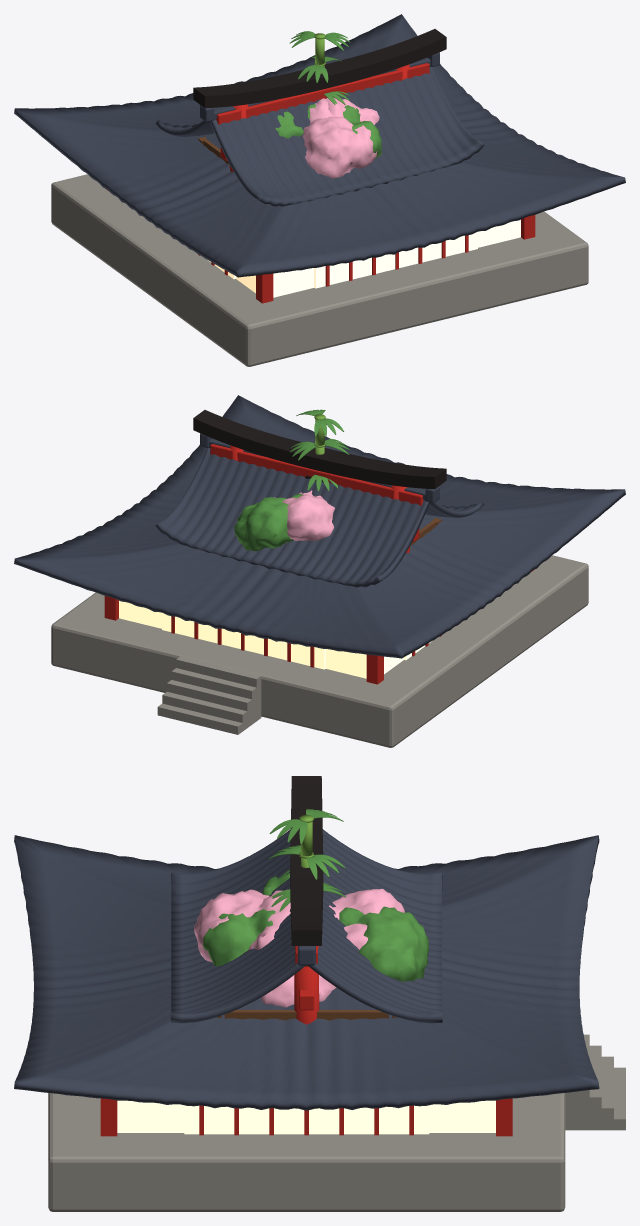
File: NinjaSim_Props.fbx
3 renders of one model, top to bottom at view 1: azimuth 30°, elevation 25°; view 2: azimuth 150°, elevation 25°; view 3: azimuth 270°, elevation 25°, orthographic. The views are drawn at different scales.
Parts seen in each view (by area): view 1: PagodaTier__Roof, PagodaBase__Stone, House__Roof, Torii__Black, PagodaTier__Walls, TreeSakura2__Leaves, Torii__Red, PagodaTier__Trim, TreeLeafy4__Leaves, Bamboo__Leaves; view 2: PagodaTier__Roof, PagodaBase__Stone, House__Roof, Torii__Black, PagodaTier__Walls, TreeLeafy4__Leaves, Torii__Red, TreeSakura2__Leaves, PagodaTier__Trim, Bamboo__Leaves; view 3: PagodaTier__Roof, PagodaBase__Stone, House__Roof, PagodaTier__Walls, TreeLeafy4__Leaves, Torii__Black, TreeSakura2__Leaves, PagodaTier__Trim, Bamboo__Leaves, TreeSakura1__Leaves, Torii__Red, House__Wood.
Part boxes in pixels (<box>): PagodaTier__Roof: <box>14,14,625,277</box>; PagodaBase__Stone: <box>51,174,588,366</box>; House__Roof: <box>155,52,484,206</box>; Torii__Black: <box>193,29,446,108</box>; PagodaTier__Walls: <box>208,219,520,297</box>; TreeSakura2__Leaves: <box>303,97,379,178</box>; Torii__Red: <box>216,63,429,171</box>; PagodaTier__Trim: <box>105,188,535,303</box>; TreeLeafy4__Leaves: <box>275,104,381,158</box>; Bamboo__Leaves: <box>289,31,350,104</box>; PagodaTier__Roof: <box>14,395,625,658</box>; PagodaBase__Stone: <box>51,555,588,747</box>; House__Roof: <box>155,433,484,587</box>; Torii__Black: <box>193,410,446,489</box>; PagodaTier__Walls: <box>119,600,431,678</box>; TreeLeafy4__Leaves: <box>234,494,302,551</box>; Torii__Red: <box>210,444,423,552</box>; TreeSakura2__Leaves: <box>282,490,334,540</box>; PagodaTier__Trim: <box>104,569,534,684</box>; Bamboo__Leaves: <box>290,409,350,491</box>; PagodaTier__Roof: <box>14,835,599,1110</box>; PagodaBase__Stone: <box>48,1034,625,1211</box>; House__Roof: <box>170,829,442,1023</box>; PagodaTier__Walls: <box>117,1100,495,1134</box>; TreeLeafy4__Leaves: <box>203,870,429,981</box>; Torii__Black: <box>290,776,323,945</box>; TreeSakura2__Leaves: <box>194,888,404,962</box>; PagodaTier__Trim: <box>100,1098,512,1136</box>; Bamboo__Leaves: <box>268,809,345,911</box>; TreeSakura1__Leaves: <box>260,889,367,1007</box>; Torii__Red: <box>294,946,319,1024</box>; House__Wood: <box>216,1010,396,1020</box>.
Bounding box in the file's own units: 38.51 × 21.45 × 40.26.
